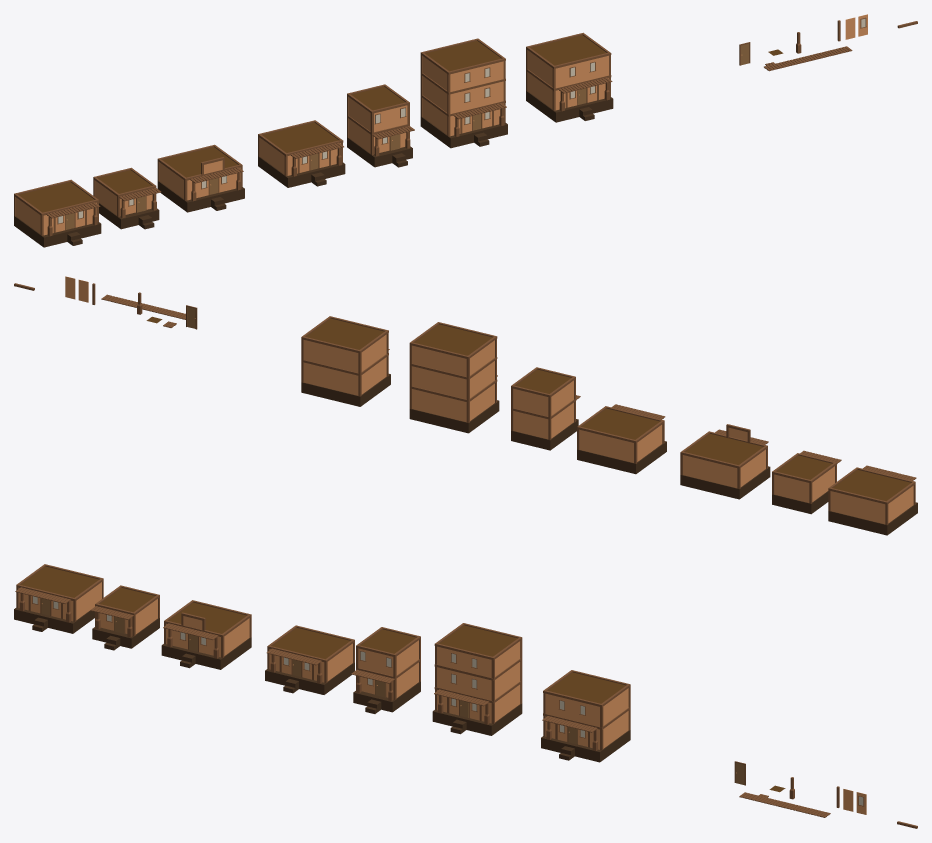
Rendered from more buildingDLC.fbx.
3 views of the same model, one above another, from view 1: azimuth 30°, elevation 25°; view 2: azimuth 150°, elevation 25°; view 3: azimuth 330°, elevation 25° (orthographic). The views are drawn at different scales.
Visible parts, largest first — view 1: 平面.009, 平面.001, 平面.006, 平面.005, 平面.007, 平面.003, 平面.008, 立方体.130; view 2: 平面.009, 平面.007, 平面.006, 平面.005, 平面.001, 平面.003, 平面.008; view 3: 平面.005, 平面.001, 平面.009, 平面.006, 平面.007, 平面.008, 平面.003, 立方体.130.
Part boxes in pixels (bbox=[...]): 平面.009: bbox=[18, 182, 94, 212]; 平面.001: bbox=[530, 35, 606, 65]; 平面.006: bbox=[262, 122, 338, 152]; 平面.005: bbox=[425, 41, 501, 71]; 平面.007: bbox=[162, 147, 237, 177]; 平面.003: bbox=[351, 86, 405, 110]; 平面.008: bbox=[98, 170, 151, 193]; 立方体.130: bbox=[764, 46, 852, 71]; 平面.009: bbox=[833, 470, 910, 501]; 平面.007: bbox=[685, 434, 763, 464]; 平面.006: bbox=[581, 408, 659, 439]; 平面.005: bbox=[414, 324, 492, 355]; 平面.001: bbox=[306, 318, 383, 349]; 平面.003: bbox=[515, 369, 570, 393]; 平面.008: bbox=[776, 455, 831, 479]; 平面.005: bbox=[439, 625, 517, 656]; 平面.001: bbox=[547, 672, 625, 703]; 平面.009: bbox=[21, 566, 98, 597]; 平面.006: bbox=[272, 628, 349, 659]; 平面.007: bbox=[168, 602, 246, 633]; 平面.008: bbox=[100, 588, 155, 612]; 平面.003: bbox=[360, 629, 416, 653]; 立方体.130: bbox=[739, 792, 830, 817].
Bounding box in the file's own units: 183 × 14.53 × 14.81.
